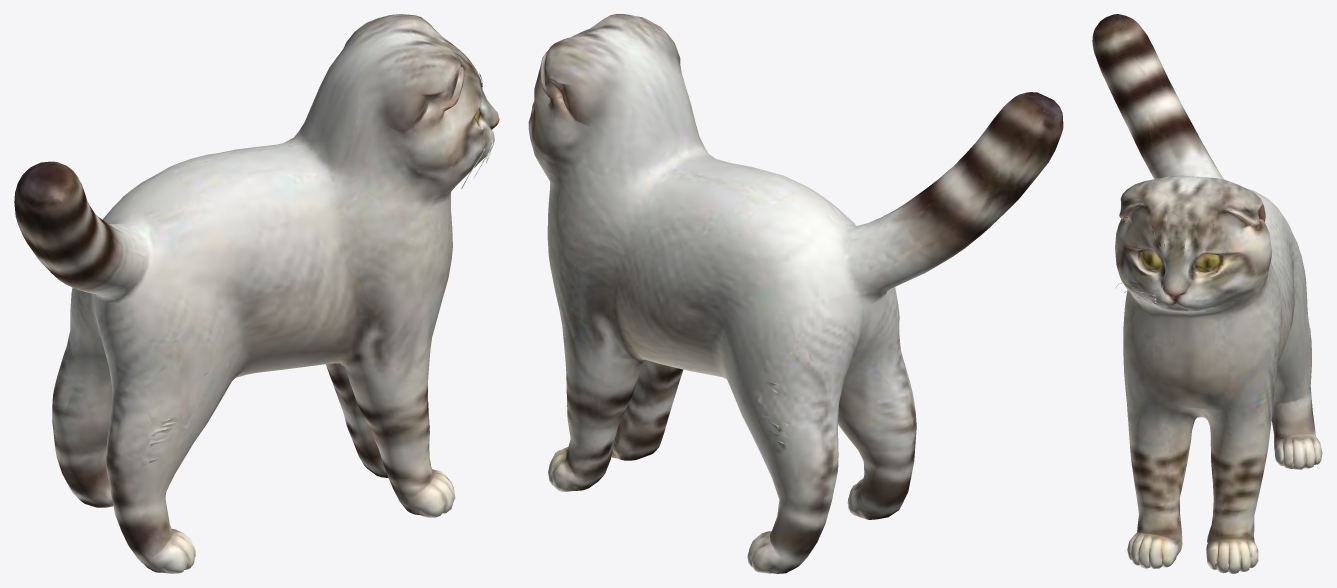
Rendered from LALEO-lo.glb.
The picture shows the model from 3 angles, left to right: view 1: azimuth 30°, elevation 25°; view 2: azimuth 150°, elevation 25°; view 3: azimuth 270°, elevation 25°; orthographic projection. The views are drawn at different scales.
Parts seen in each view (by area): view 1: fit; view 2: fit; view 3: fit.
Part boxes in pixels (x1=…): fit: x1=14, y1=14, x2=499, y2=573; fit: x1=528, y1=14, x2=1063, y2=573; fit: x1=1092, y1=14, x2=1322, y2=573.
Size of the model in its own units: 1.17 by 0.999 by 0.5447.
1 material, 1 textured.
